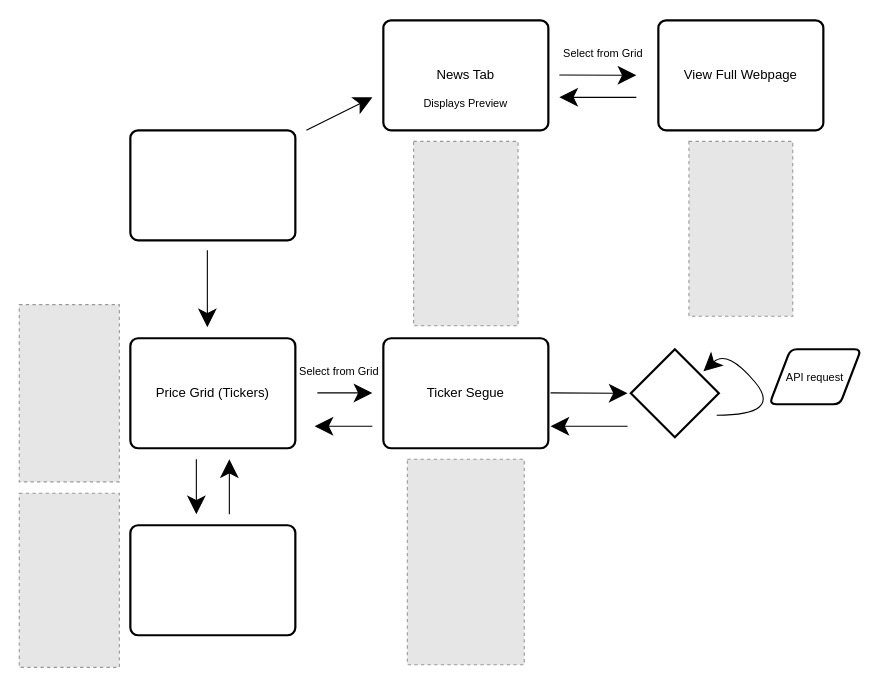
Image size: 881x686. Some labels were removed from this diagram. Grey dashed boxes stand in for pictures. Here are the shapes that lost their labels. From the top down, the centre of each, then its label:
At pixel 212 185: "TabBarController".
At pixel 674 393: "Display Info and Chart".
At pixel 212 580: "Add to Watch".
